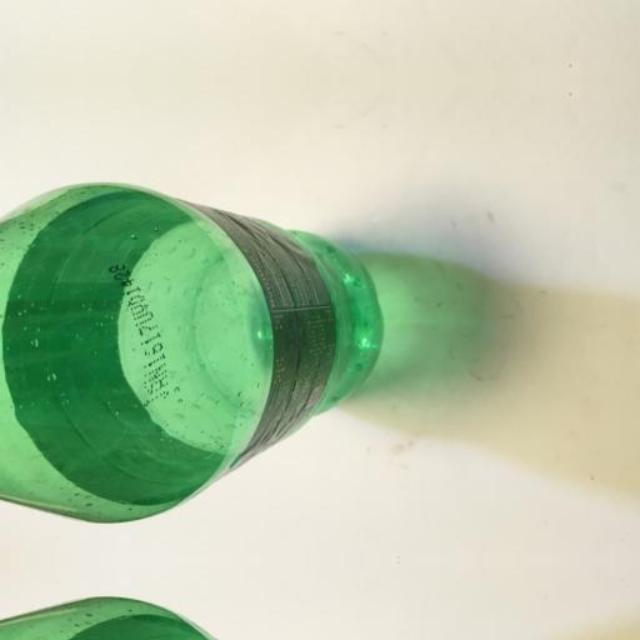Plastic: (0, 169, 458, 525), (0, 595, 458, 640)
